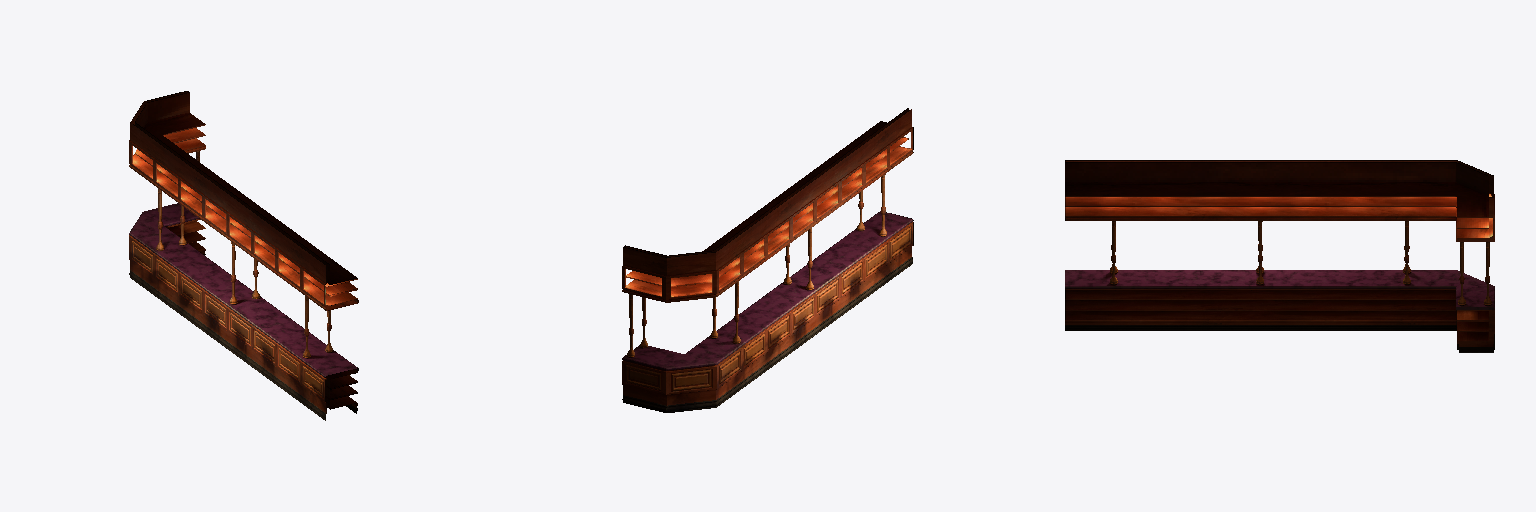
3 views of the same model, side by side, from view 1: azimuth 30°, elevation 25°; view 2: azimuth 150°, elevation 25°; view 3: azimuth 270°, elevation 25° (orthographic).
Visible parts, largest first — view 1: Bar3; view 2: Bar3; view 3: Bar3.
Boxes of the visible parts, x1,y1,x2,y2 form: Bar3: [129, 91, 358, 420]; Bar3: [622, 108, 913, 412]; Bar3: [1065, 160, 1494, 352].
Size of the model in its own units: 1.6 by 3.11 by 7.78.
Materials: 1 (1 with a texture image).